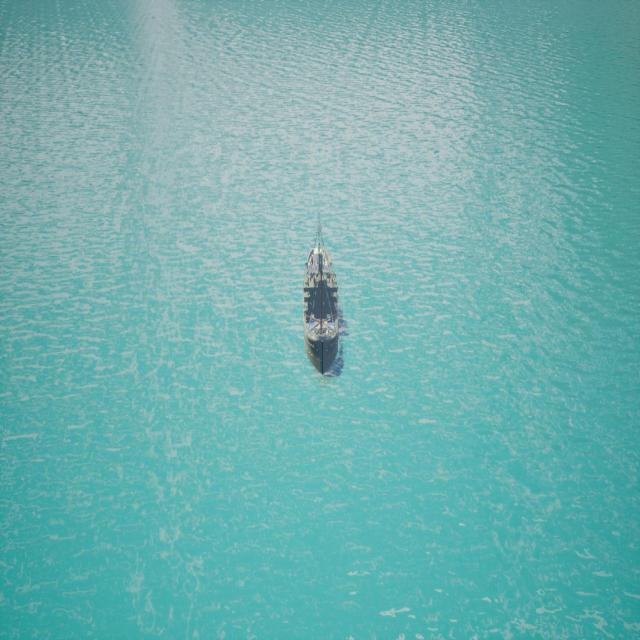fishing ship: (303, 217, 346, 380)
